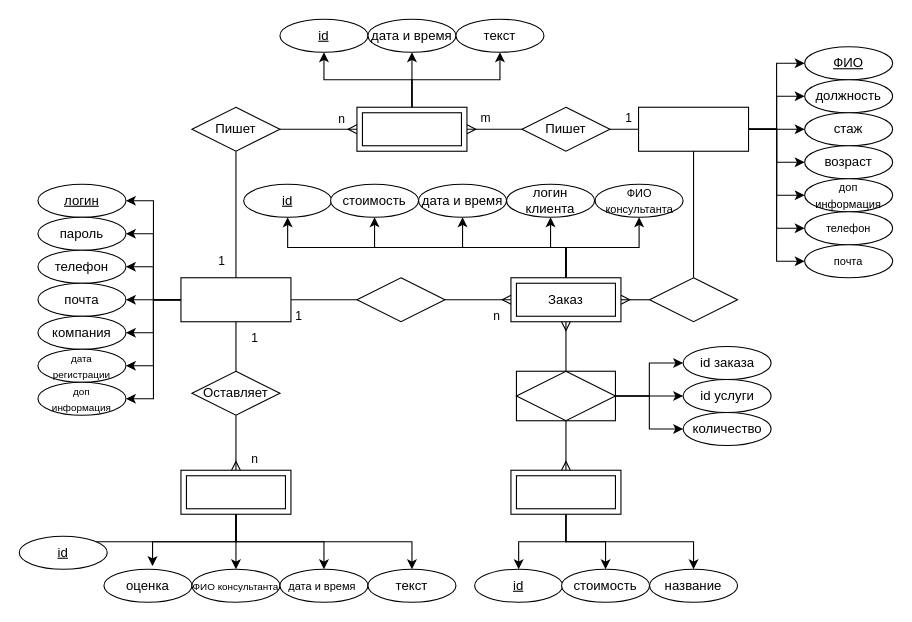
Image size: 912x622. Some labels were removed from this diagram. Here are the shapes that lost their labels. From the top down, the centre of each, then its label:
At (411,128): "Сообщение".
At (693,128): "Консультант".
At (235,299): "Клиент".
At (400,299): "Оформляет".
At (693,299): "Обслуживает".
At (565,395): "Содержит".
At (235,491): "Отзыв".
At (565,491): "Услуга".
